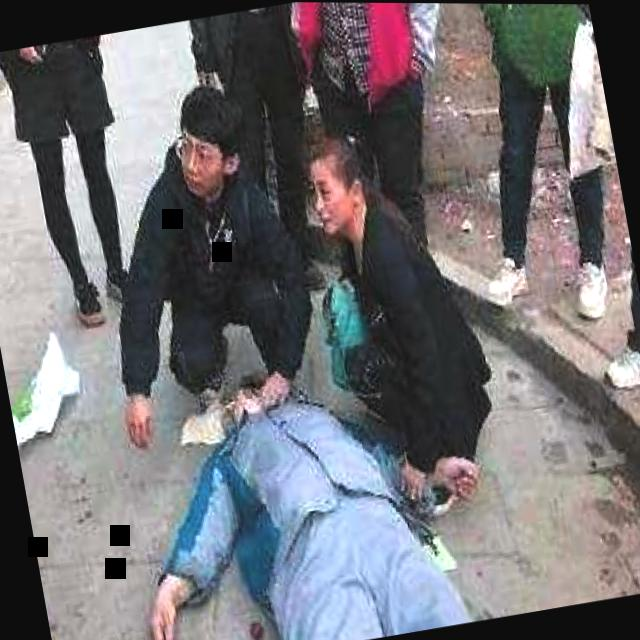Fall-Detected: (83, 310, 543, 640)
